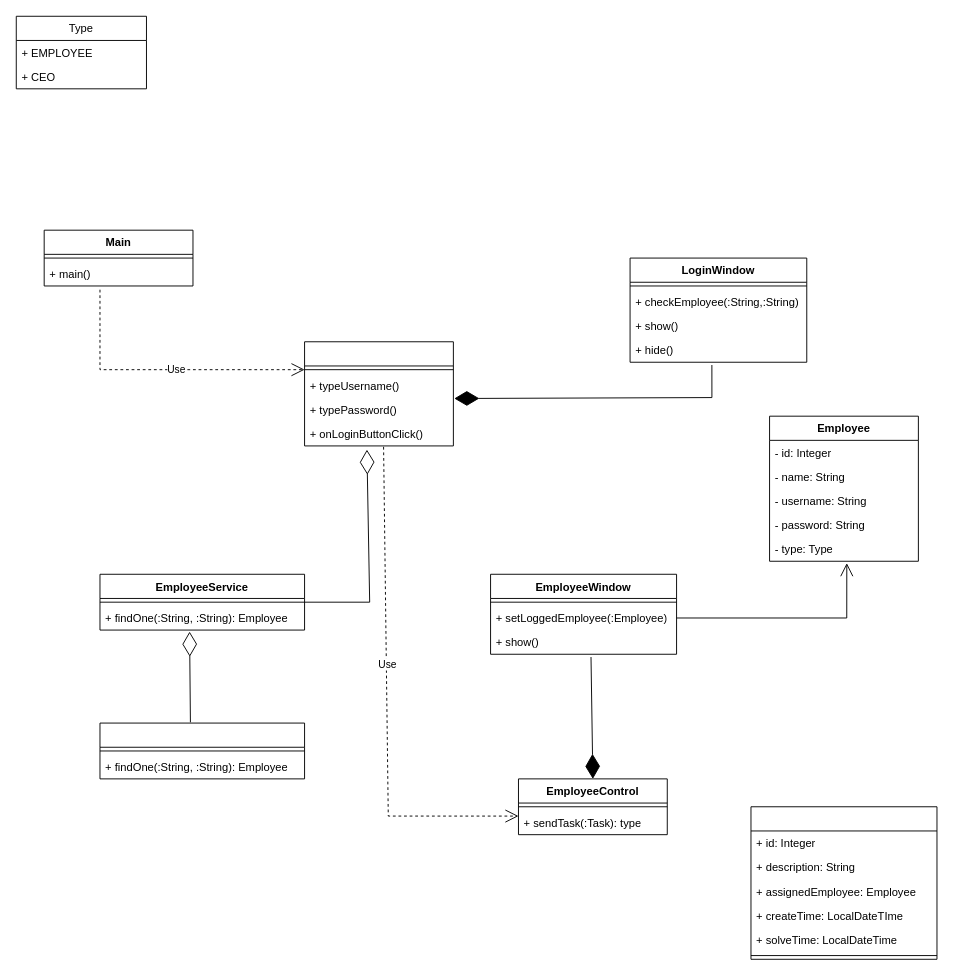
The diagram is 953 pixels wide and 976 high, and some of its shapes have lost their labels. Here are the shapes that lost their labels. From the top down, the box of each, then its label:
(304, 341, 453, 446): LoginControl
(99, 722, 305, 779): EmployeeRepository
(750, 806, 937, 959): Task
